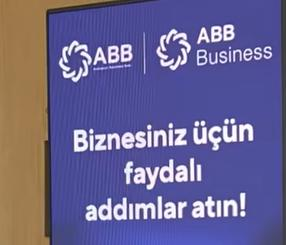ABB: (154, 28, 191, 72), (57, 38, 93, 83)
